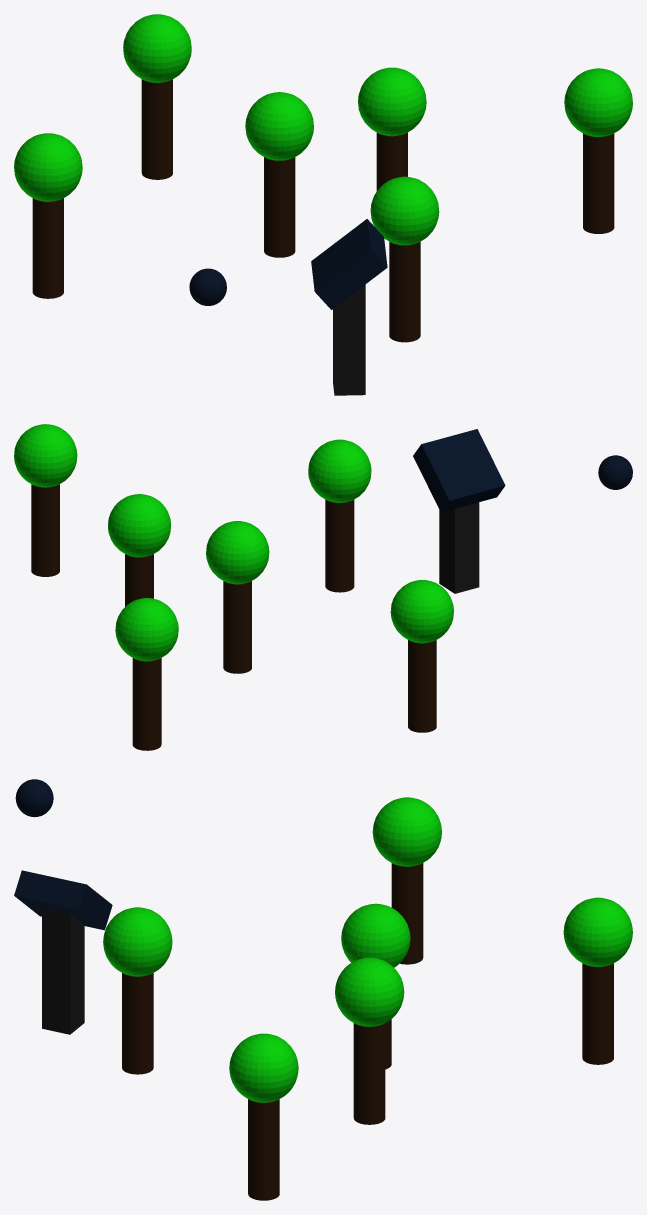
Rendered from exercise20022.obj.
3 renders of one model, top to bottom at view 1: azimuth 30°, elevation 25°; view 2: azimuth 150°, elevation 25°; view 3: azimuth 270°, elevation 25°, orthographic. The views are drawn at different scales.
Parts seen in each view (by area): view 1: Cube.001, Sphere, Sphere.003, Sphere.005, Sphere.002, Sphere.006, Sphere.004, Cube, Cylinder.002, Cylinder.006, Cylinder.004, Cylinder.005 (+4 smaller); view 2: Cube.001, Cube, Sphere.004, Sphere.003, Sphere.005, Sphere, Sphere.002, Sphere.006, Cylinder.004, Cylinder.005, Cylinder.003, Cylinder.002 (+4 smaller); view 3: Cube, Sphere.003, Sphere.004, Sphere, Sphere.005, Sphere.006, Sphere.002, Cube.001, Cylinder.004, Cylinder.003, Cylinder, Cylinder.005 (+3 smaller).
Boxes of the visible parts, x1,y1,x2,y2 form: Cube.001: (311, 219, 387, 309); Sphere: (358, 67, 426, 136); Sphere.003: (564, 68, 632, 136); Sphere.005: (123, 14, 191, 82); Sphere.002: (245, 92, 313, 160); Sphere.006: (14, 133, 82, 201); Sphere.004: (370, 176, 439, 245); Cube: (333, 284, 365, 395); Cylinder.002: (264, 157, 295, 257); Cylinder.006: (32, 198, 63, 298); Cylinder.004: (389, 242, 420, 342); Cylinder.005: (141, 79, 172, 179); Cube.001: (413, 429, 505, 512); Cube: (439, 502, 479, 593); Sphere.004: (308, 439, 371, 502); Sphere.003: (14, 424, 77, 487); Sphere.005: (115, 598, 178, 661); Sphere: (108, 494, 170, 557); Sphere.002: (206, 521, 269, 584); Sphere.006: (390, 580, 453, 643); Cylinder.004: (325, 499, 354, 592); Cylinder.005: (132, 658, 161, 750); Cylinder.003: (31, 484, 59, 576); Cylinder.002: (223, 581, 251, 673); Cube: (42, 907, 84, 1034); Sphere.003: (229, 1033, 298, 1102); Sphere.004: (103, 907, 172, 976); Sphere: (335, 957, 404, 1026); Sphere.005: (563, 897, 632, 966); Sphere.006: (372, 797, 441, 866); Sphere.002: (341, 903, 410, 967); Cube.001: (14, 870, 112, 930); Cylinder.004: (122, 973, 153, 1074); Cylinder.003: (248, 1099, 279, 1200); Cylinder: (353, 1023, 385, 1124); Cylinder.005: (582, 963, 613, 1064).
Size of what is drawn, in the model's own units: 40.53 by 11.74 by 39.13.
